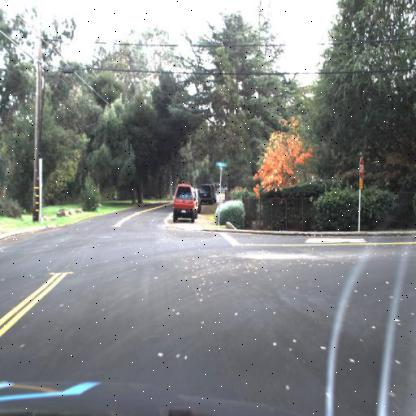car: (172, 182, 198, 226), (196, 181, 217, 209)
